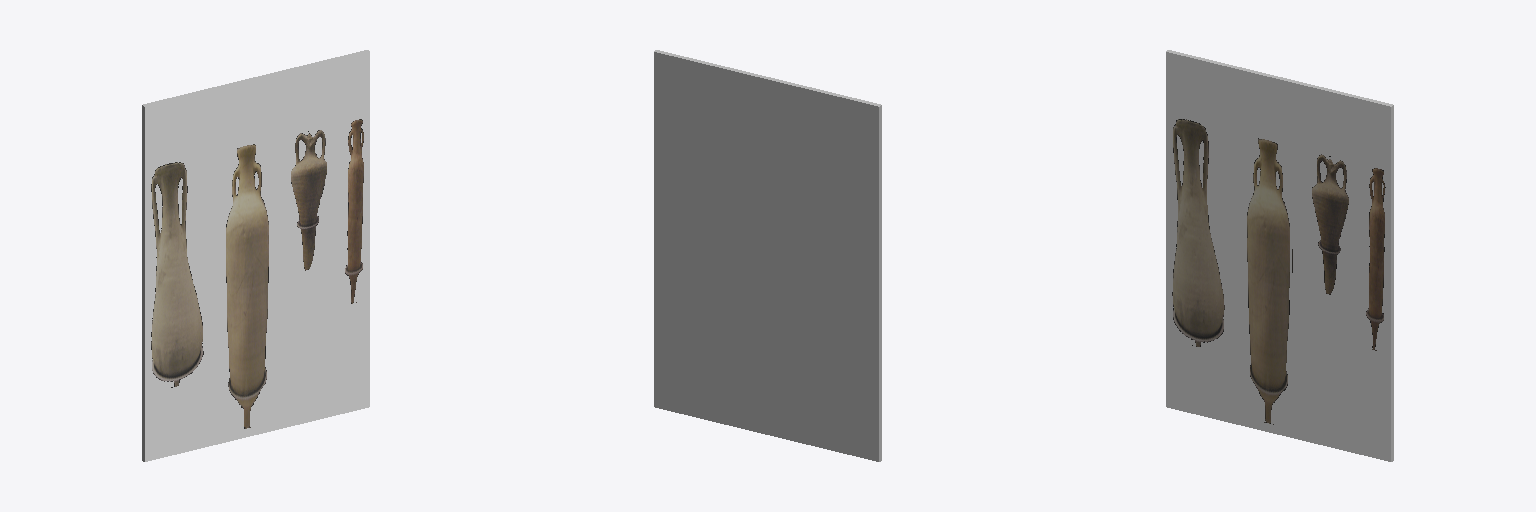
3 renders of one model, left to right at view 1: azimuth 30°, elevation 25°; view 2: azimuth 150°, elevation 25°; view 3: azimuth 330°, elevation 25°, orthographic.
Parts seen in each view (by area): view 1: SketchUp.001_ID10, SketchUp_ID2; view 2: SketchUp_ID2; view 3: SketchUp.001_ID10, SketchUp_ID2.
Part boxes in pixels (x1,y1,x2,y2): SketchUp.001_ID10: (145,52,369,461); SketchUp_ID2: (142,50,369,461); SketchUp_ID2: (654,50,881,461); SketchUp.001_ID10: (1166,52,1390,461); SketchUp_ID2: (1166,50,1393,461).
Bounding box in the file's own units: 188 × 283 × 3.94.
Materials: 2 (1 with a texture image).